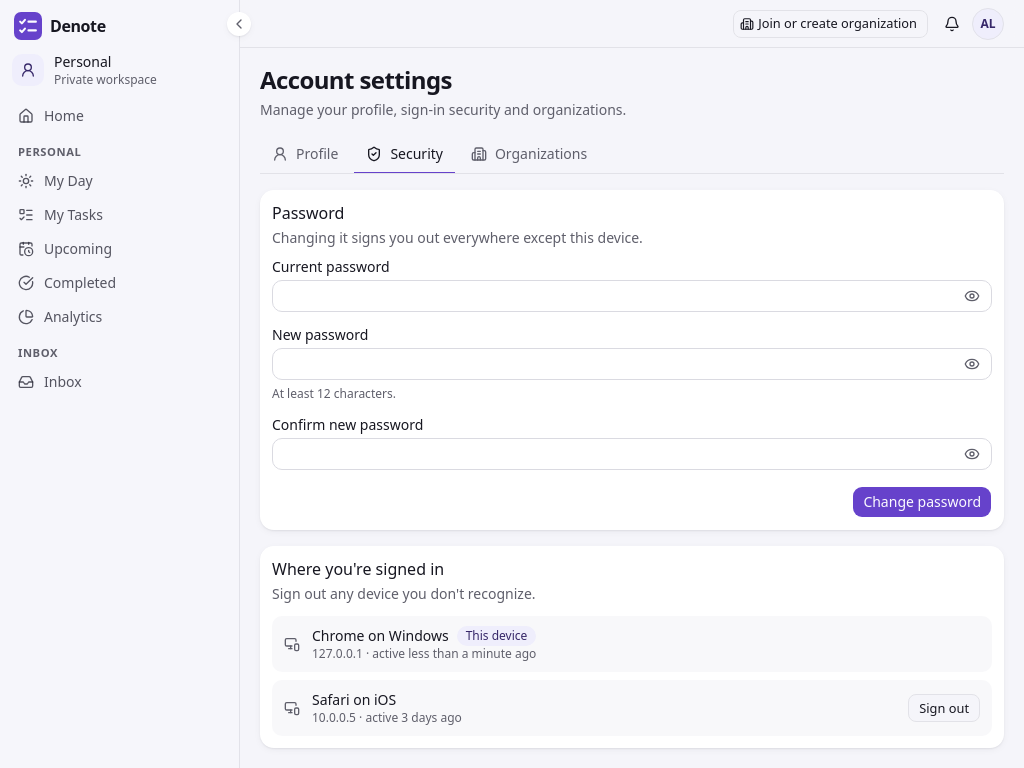
it: security settings › shows a wrong current password on the field
This screenshot has width=1024, height=768.
Step 1. Type "not my password" into the password field labelled "Current password" → (632,296), box x1=272 y1=280 x2=992 y2=312
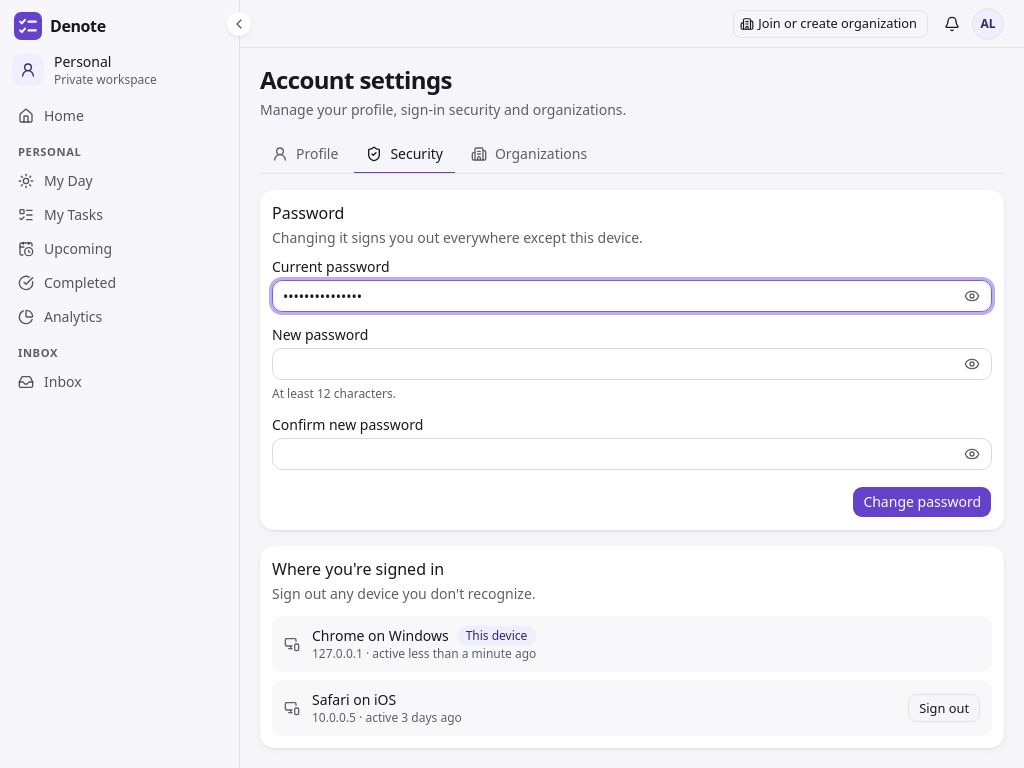
Step 2. Type "a brand new passphrase" into the password field labelled "New password" → (632,364), box x1=272 y1=348 x2=992 y2=380
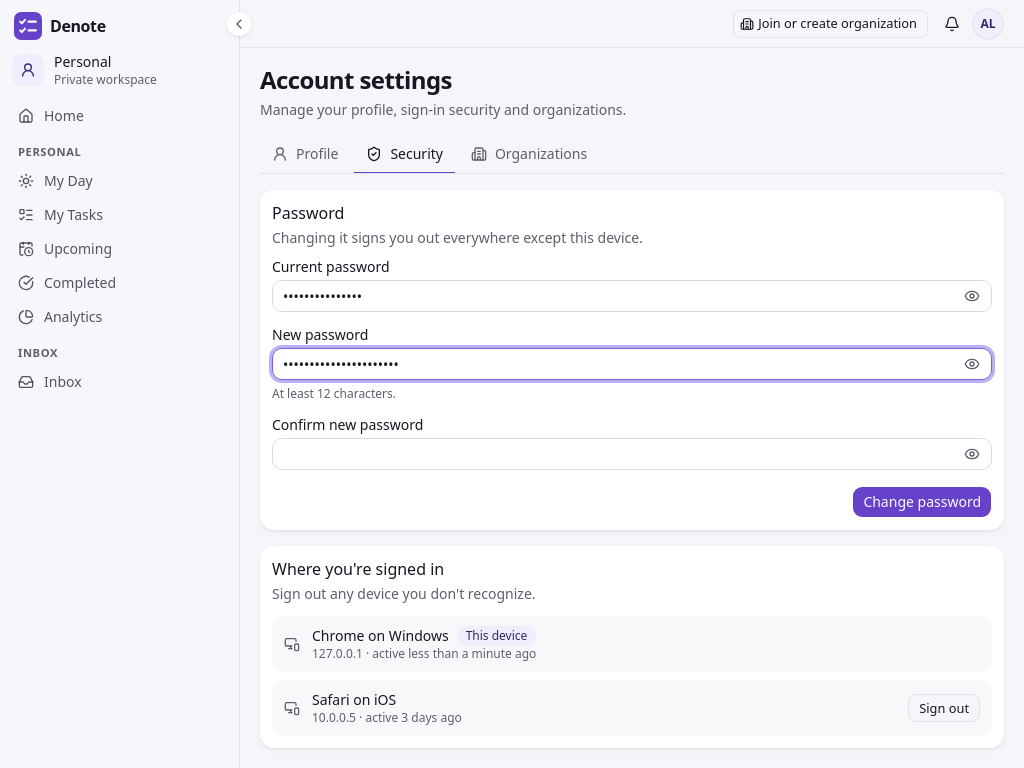
Step 3. Type "a brand new passphrase" into the password field labelled "Confirm new password" → (632,454), box x1=272 y1=438 x2=992 y2=470
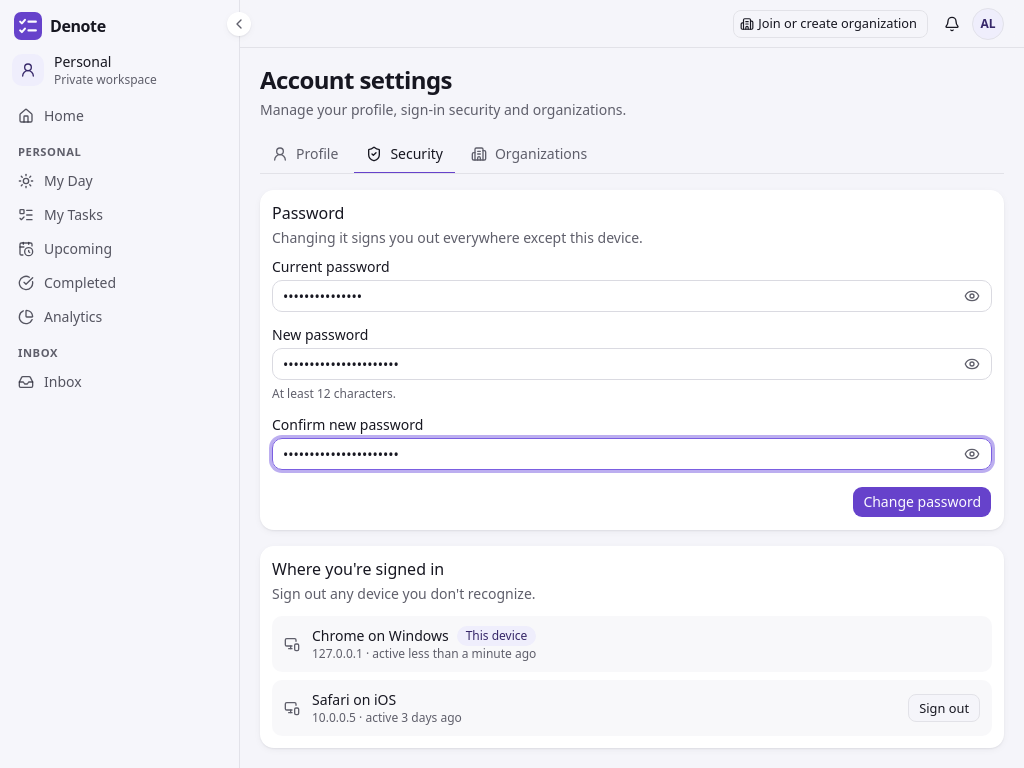
Step 4. Click the button "Change password" → (922,502), box x1=852 y1=486 x2=992 y2=518
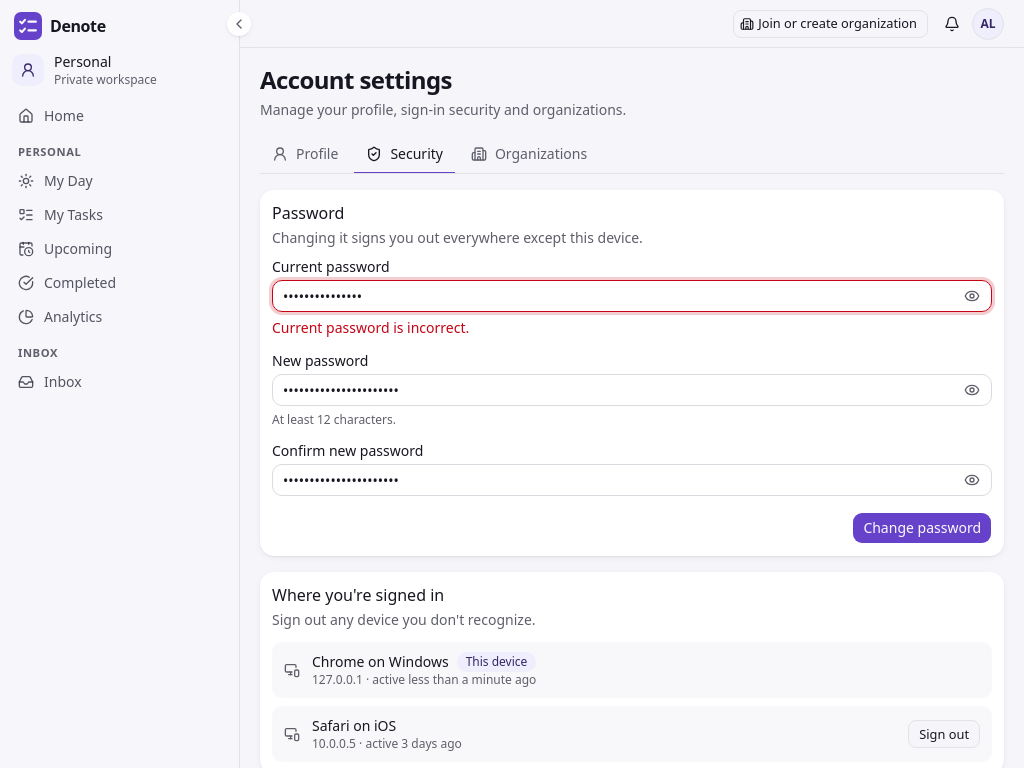
Now the text "Current password is incorrect." is shown, box x1=272 y1=318 x2=469 y2=337
